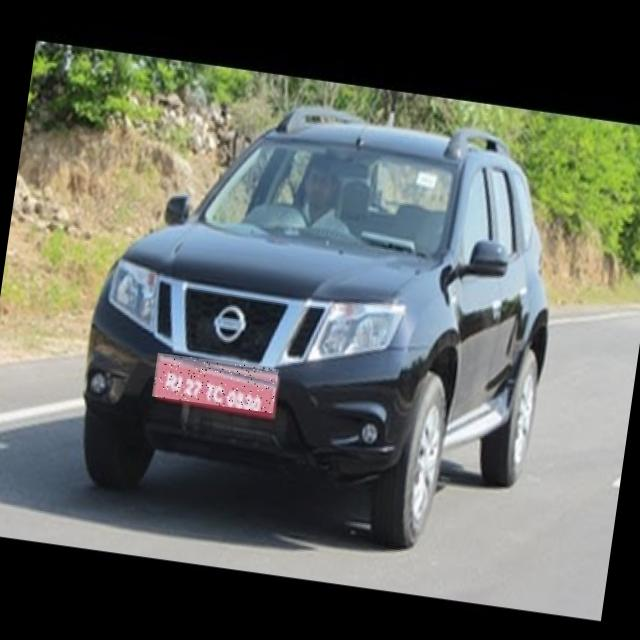Plate: (153, 354, 280, 415)
